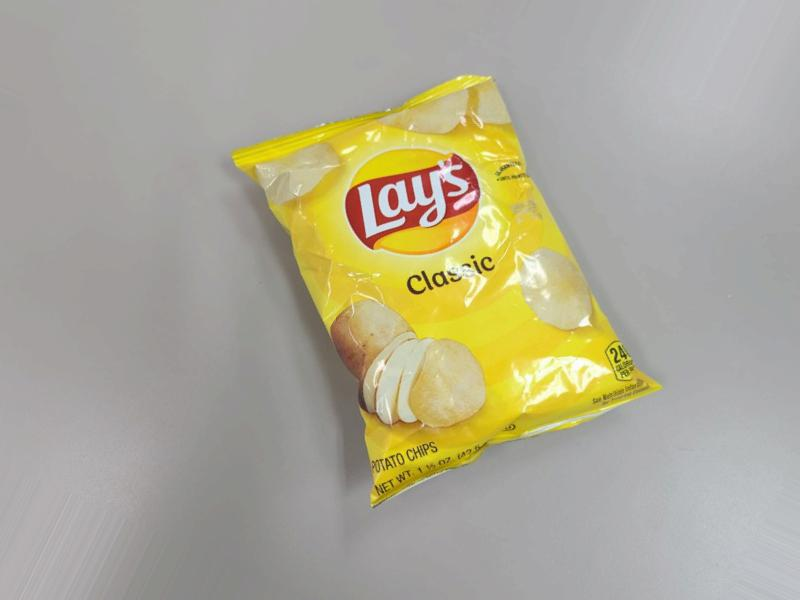lays: (366, 56, 712, 500)
